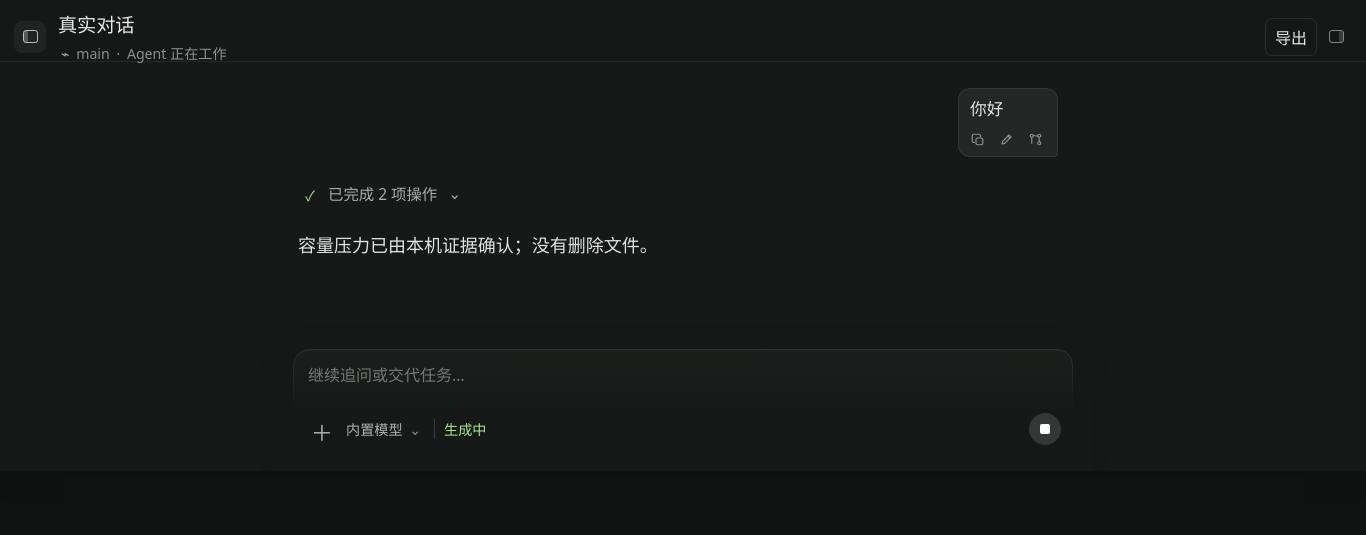
Scenario: conversation timeline projection › renders bounded volume capacity evidence without labels or file names
Click the button "✓ 已完成 2 项操作 ⌄": [384, 194] box [299,177,468,210]
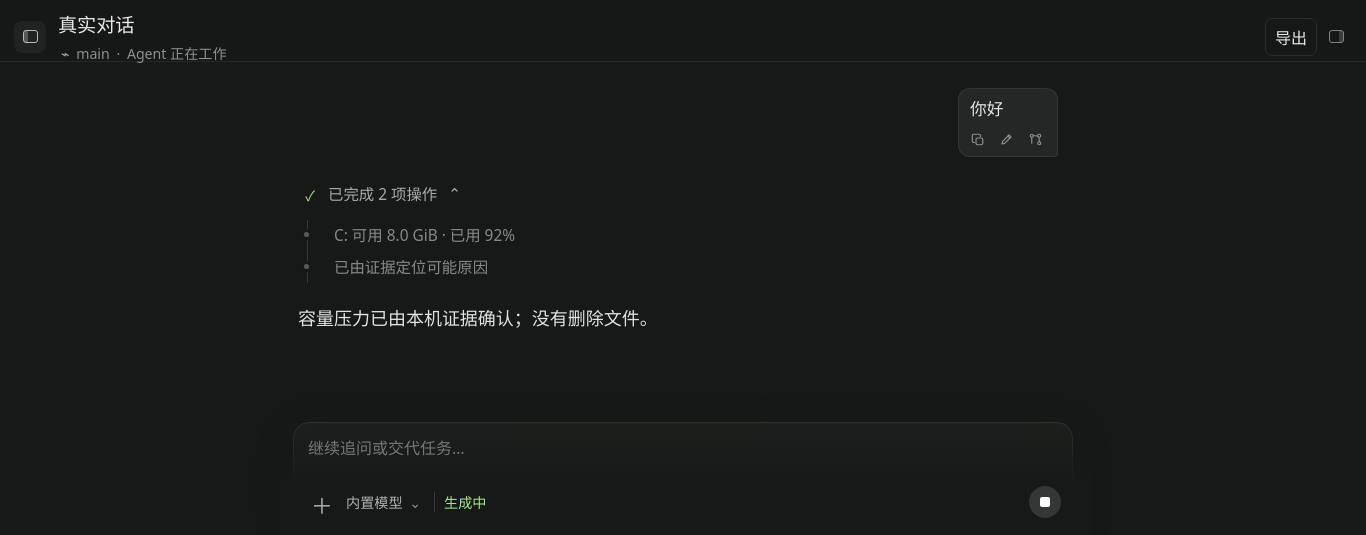
Result: the text "C: 可用 8.0 GiB · 已用 92%" is shown at [334,225,515,246]
